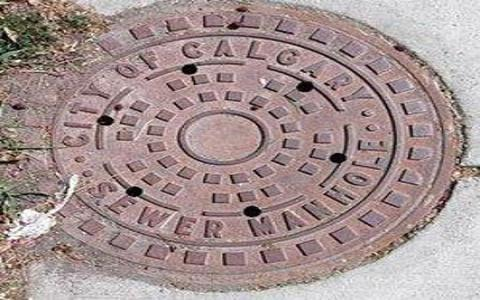proper manhole: (3, 1, 465, 294)
